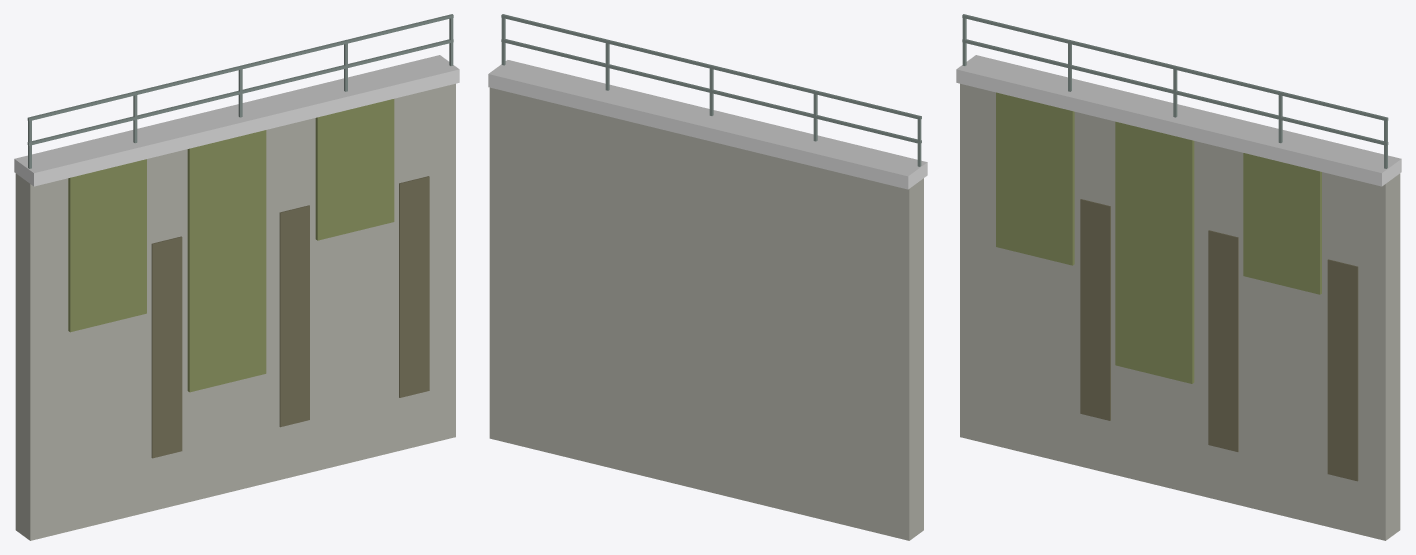
File: SM_MuroTrinchera_Muro_v4_Hiedra_LOD0.fbx
The picture shows the model from 3 angles, left to right: view 1: azimuth 30°, elevation 25°; view 2: azimuth 150°, elevation 25°; view 3: azimuth 330°, elevation 25°; orthographic projection.
Visible parts, largest first — view 1: SM_muro_trinchera_v4_LOD0; view 2: SM_muro_trinchera_v4_LOD0; view 3: SM_muro_trinchera_v4_LOD0.
Part boxes in pixels (x1,y1,x2,y2): SM_muro_trinchera_v4_LOD0: [14, 14, 459, 540]; SM_muro_trinchera_v4_LOD0: [488, 14, 927, 540]; SM_muro_trinchera_v4_LOD0: [956, 14, 1401, 540].
Size of the model in its own units: 9.98 by 9.43 by 0.8.
